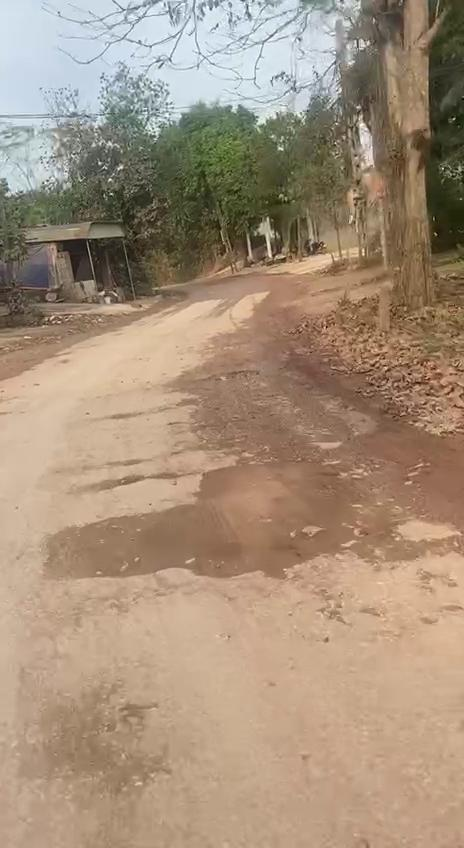pothole: (35, 453, 375, 588), (13, 658, 169, 794), (204, 366, 265, 388)
